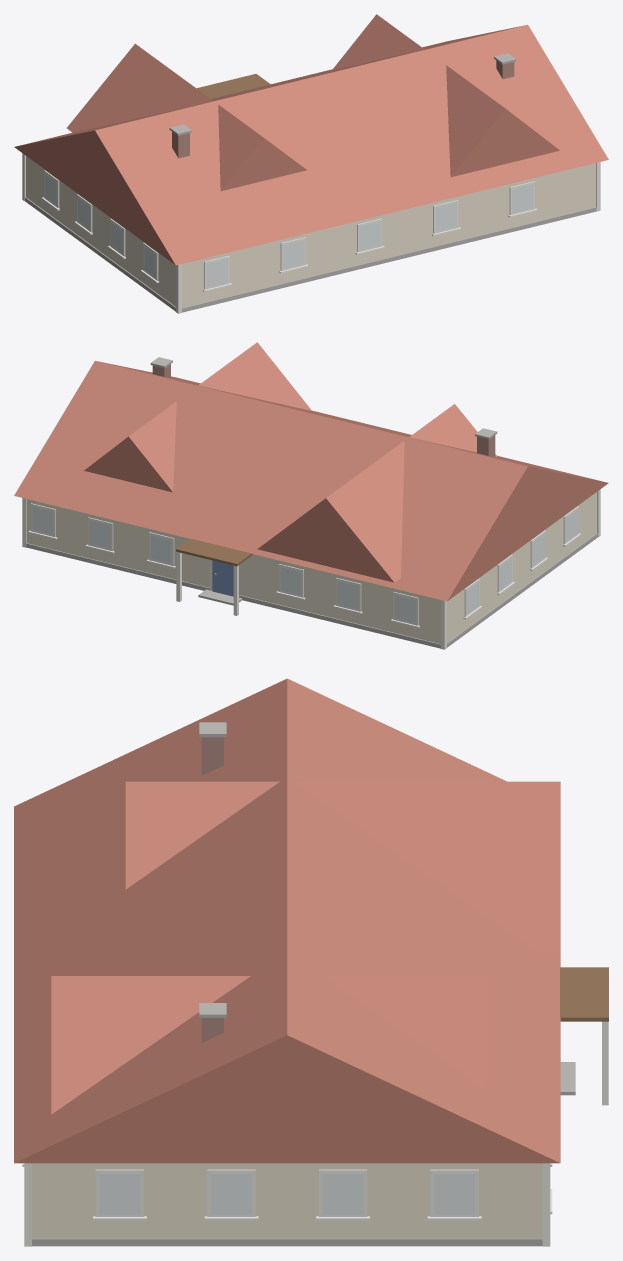
File: house_large_a.glb
3 renders of one model, top to bottom at view 1: azimuth 30°, elevation 25°; view 2: azimuth 150°, elevation 25°; view 3: azimuth 270°, elevation 25°, orthographic. The views are drawn at different scales.
Visible parts, largest first — view 1: roof, body; view 2: roof, body; view 3: roof, body.
Boxes of the visible parts, x1,y1,x2,y2 form: roof: [14, 14, 608, 265]; body: [22, 74, 600, 313]; roof: [14, 342, 608, 601]; body: [22, 489, 600, 649]; roof: [14, 678, 560, 1163]; body: [22, 967, 608, 1246].
Size of the model in its own units: 22.7 by 6.49 by 16.
